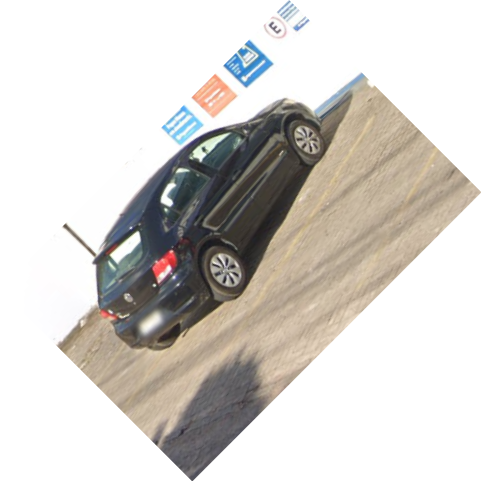car: (90, 96, 326, 353)
